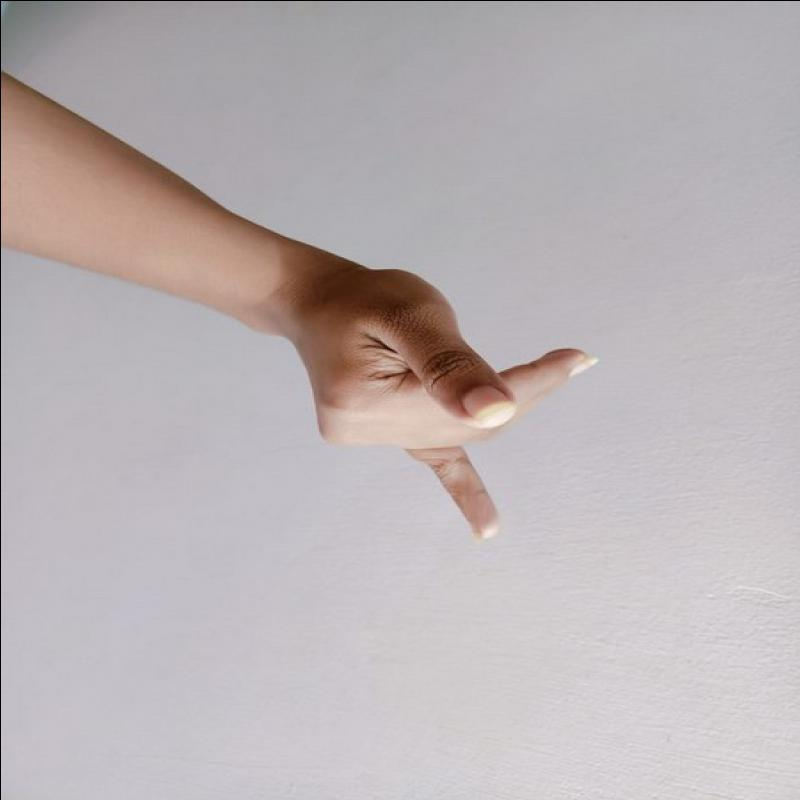Kartharee Mukham: (274, 230, 624, 553)
